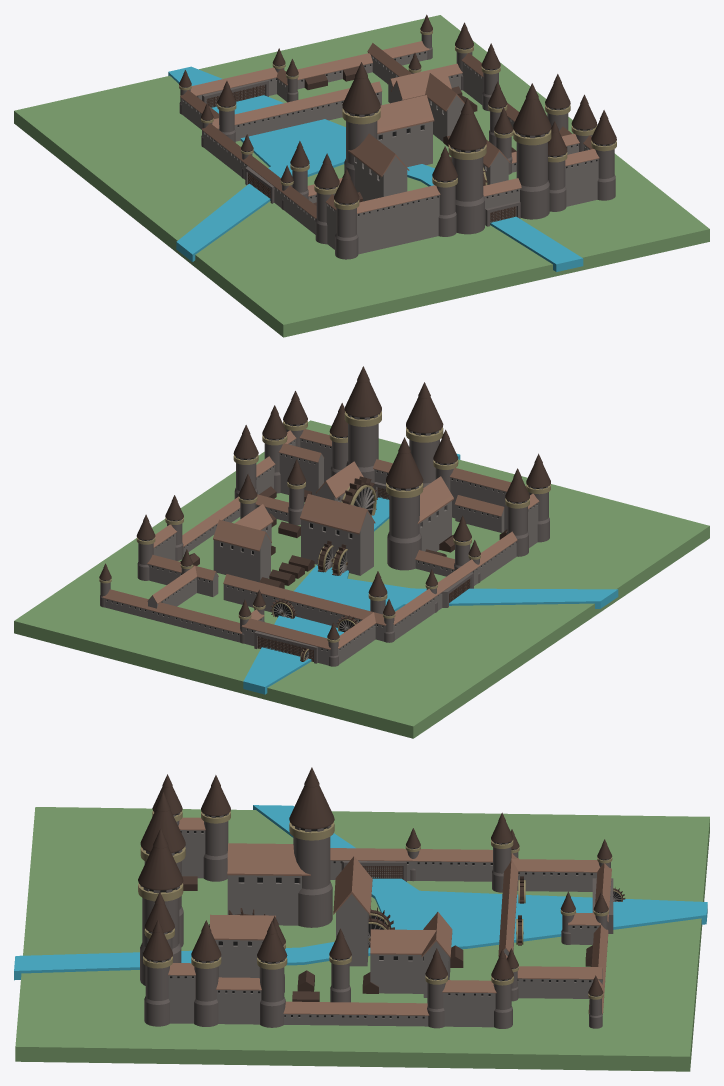
Rendered from Riverrun.fbx.
3 renders of one model, top to bottom at view 1: azimuth 30°, elevation 25°; view 2: azimuth 150°, elevation 25°; view 3: azimuth 270°, elevation 25°, orthographic. The views are drawn at different scales.
Visible parts, largest first — view 1: Grass, TridentTrim, SpireTowers14, SpireTowers2, InteriorBuilding10, InteriorBuilding11, SpireTowers3, SpireTowers23, SpireTowers18, SpireTowers13, InteriorBuilding8, SpireTowers17 (+23 smaller); view 2: Grass, TridentTrim, InteriorBuilding10, SpireTowers3, InteriorBuilding9, SpireTowers14, SpireTowers2, InteriorBuilding11, SpireTowers22, SpireTowers23, SpireTowers15, SpireTowers16 (+18 smaller); view 3: Grass, TridentTrim, InteriorBuilding11, SpireTowers3, InteriorBuilding8, SpireTowers14, InteriorBuilding10, InteriorBuilding7, SpireTowers15, SpireTowers18, SpireTowers22, SpireTowers16 (+32 smaller).
Part boxes in pixels (<box>): Grass: <box>14,15,709,337</box>; TridentTrim: <box>168,66,583,271</box>; SpireTowers14: <box>513,83,551,219</box>; SpireTowers2: <box>448,98,486,234</box>; InteriorBuilding10: <box>377,95,434,167</box>; InteriorBuilding11: <box>348,133,409,201</box>; SpireTowers3: <box>342,62,380,186</box>; SpireTowers23: <box>334,168,359,259</box>; SpireTowers18: <box>591,110,616,200</box>; SpireTowers13: <box>432,146,457,236</box>; InteriorBuilding8: <box>425,73,464,141</box>; SpireTowers17: <box>548,121,567,211</box>; Grass: <box>14,420,709,738</box>; TridentTrim: <box>243,454,618,694</box>; InteriorBuilding10: <box>300,494,375,575</box>; SpireTowers3: <box>386,437,423,570</box>; InteriorBuilding9: <box>213,519,271,582</box>; SpireTowers14: <box>344,366,381,487</box>; SpireTowers2: <box>406,382,443,487</box>; InteriorBuilding11: <box>417,476,453,551</box>; SpireTowers22: <box>505,468,529,556</box>; SpireTowers23: <box>526,453,550,542</box>; SpireTowers15: <box>233,425,258,498</box>; SpireTowers16: <box>262,405,287,493</box>; Grass: <box>15,807,709,1071</box>; TridentTrim: <box>14,805,707,980</box>; InteriorBuilding11: <box>227,843,310,925</box>; SpireTowers3: <box>289,767,334,927</box>; InteriorBuilding8: <box>370,929,436,993</box>; SpireTowers14: <box>138,828,183,985</box>; InteriorBuilding10: <box>333,856,372,966</box>; InteriorBuilding7: <box>210,914,275,977</box>; SpireTowers15: <box>257,921,287,1027</box>; SpireTowers18: <box>143,920,172,1026</box>; SpireTowers22: <box>201,775,230,881</box>; SpireTowers16: <box>191,920,221,1026</box>.
Bounding box in the file's own units: 2837 × 903 × 3339.
